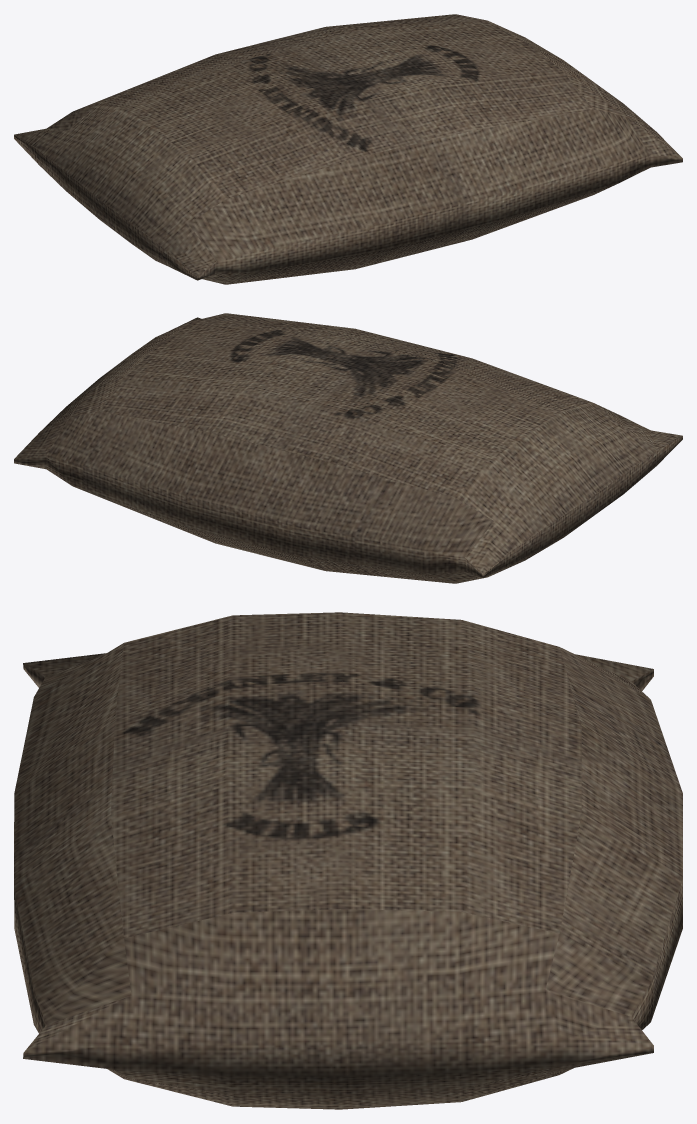
File: fanasty_mod_flour_sack01.fbx
3 renders of one model, top to bottom at view 1: azimuth 30°, elevation 25°; view 2: azimuth 150°, elevation 25°; view 3: azimuth 270°, elevation 25°, orthographic. The views are drawn at different scales.
Parts seen in each view (by area): view 1: flour_sack01; view 2: flour_sack01; view 3: flour_sack01.
Boxes of the visible parts, x1=… form: flour_sack01: x1=14, y1=14, x2=682, y2=284; flour_sack01: x1=14, y1=313, x2=682, y2=583; flour_sack01: x1=14, y1=612, x2=682, y2=1109.
Size of the model in its own units: 1.49 by 0.4513 by 1.07.
